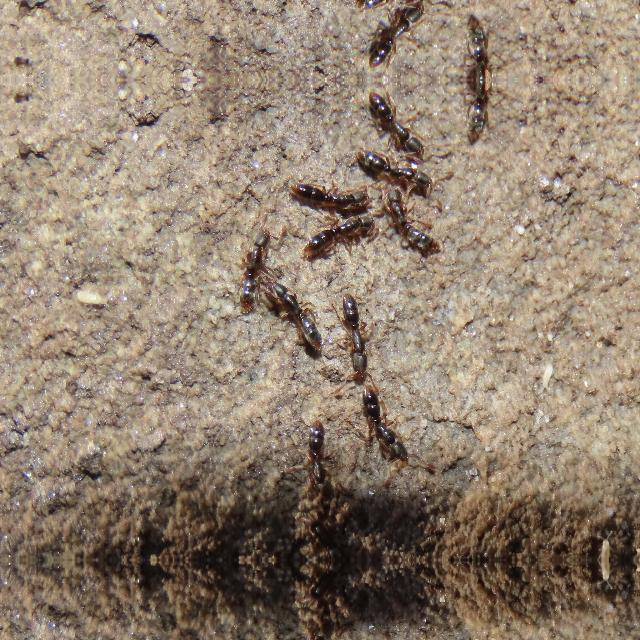Ponera: (288, 198, 382, 264), (325, 287, 383, 389), (347, 140, 445, 198), (262, 263, 328, 349), (362, 88, 438, 156), (362, 4, 438, 72), (360, 376, 418, 462), (385, 184, 441, 272), (295, 412, 341, 510), (224, 222, 276, 308), (438, 80, 506, 144), (438, 16, 506, 80), (297, 168, 368, 216), (347, 0, 445, 18), (295, 610, 341, 640)
